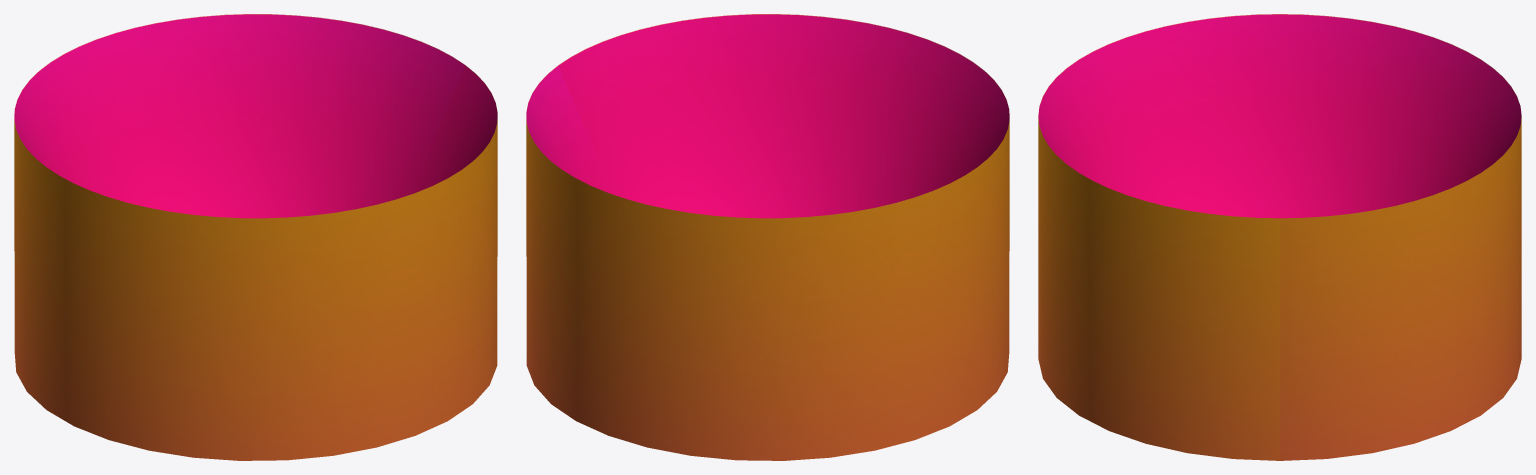
The model's file is solido.fbx.
3 views of the same model, side by side, from view 1: azimuth 30°, elevation 25°; view 2: azimuth 150°, elevation 25°; view 3: azimuth 270°, elevation 25° (orthographic).
Visible parts, largest first — view 1: y_x__solido_ejey1:Mesh; view 2: y_x__solido_ejey1:Mesh; view 3: y_x__solido_ejey1:Mesh.
Part boxes in pixels (x1,y1,x2,y2): y_x__solido_ejey1:Mesh: (14, 14, 497, 460); y_x__solido_ejey1:Mesh: (526, 14, 1009, 460); y_x__solido_ejey1:Mesh: (1038, 14, 1521, 460).
Bounding box in the file's own units: 36.29 × 20.1 × 36.29.
